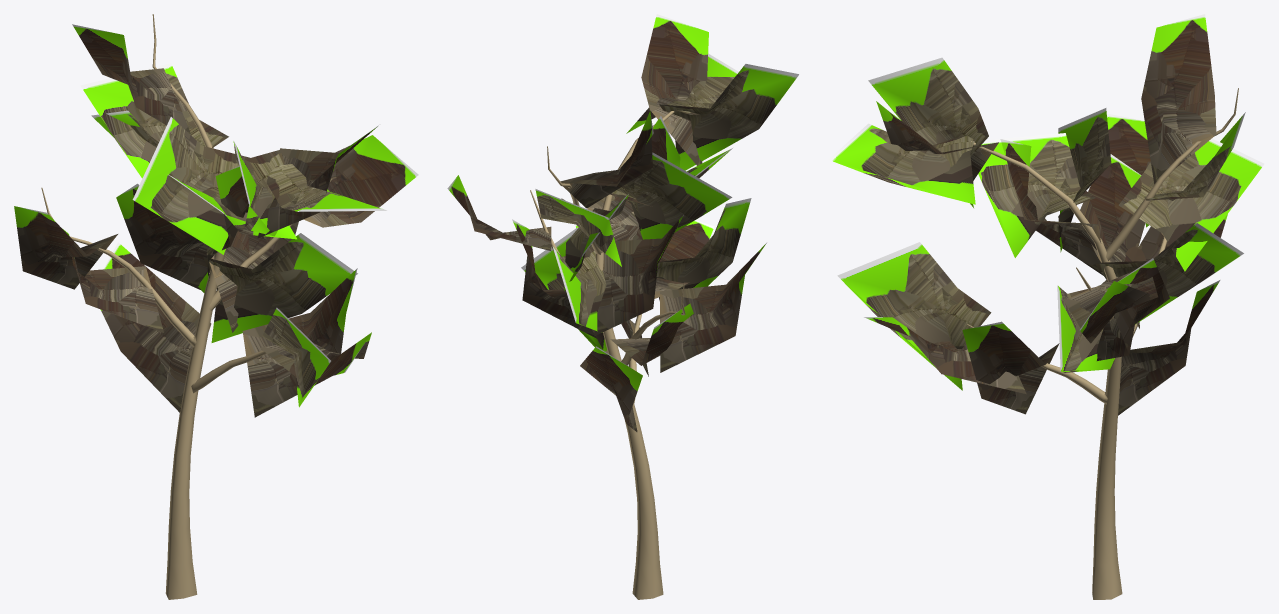
Rendered from Lava_Wood_mini_02.FBX.
3 renders of one model, left to right at view 1: azimuth 30°, elevation 25°; view 2: azimuth 150°, elevation 25°; view 3: azimuth 270°, elevation 25°, orthographic. The views are drawn at different scales.
Parts seen in each view (by area): view 1: Lava_Wood_mini_02; view 2: Lava_Wood_mini_02; view 3: Lava_Wood_mini_02.
Boxes of the visible parts, x1=… form: Lava_Wood_mini_02: x1=14, y1=14, x2=418, y2=599; Lava_Wood_mini_02: x1=447, y1=14, x2=798, y2=599; Lava_Wood_mini_02: x1=828, y1=14, x2=1264, y2=599.
Bounding box in the file's own units: 57.67 × 83.07 × 59.56.
2 materials, 1 textured.
